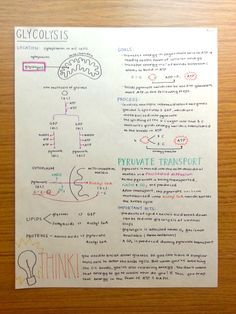page: (15, 26, 217, 286)
